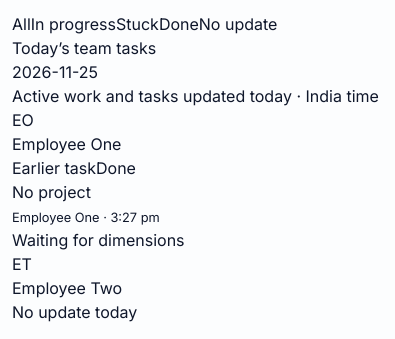
daily team updates › shows a comment-only update on an older task, missing employees and status filters
Expected: the text "Waiting for dimensions" is shown, [12, 230, 184, 250]
Expected: the button "Earlier task" is shown, [12, 156, 96, 180]
Click the button "No update": (238, 24) [199, 12, 277, 36]
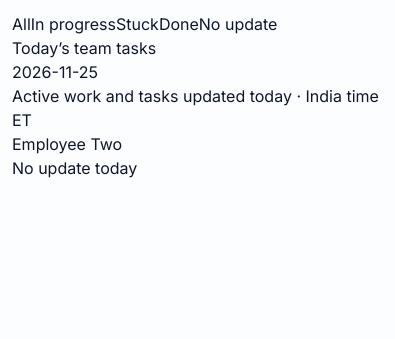
Expected: the heading "Employee Two" is shown, [12, 134, 122, 154]
Now the button "Earlier task" is gone
